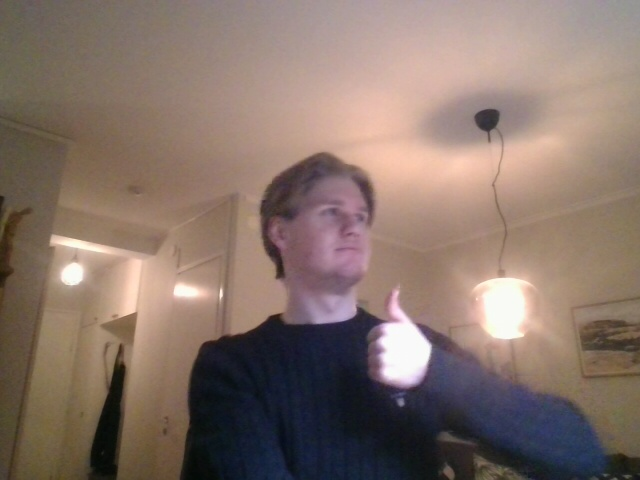ThumbsUp: (365, 286, 422, 390)
